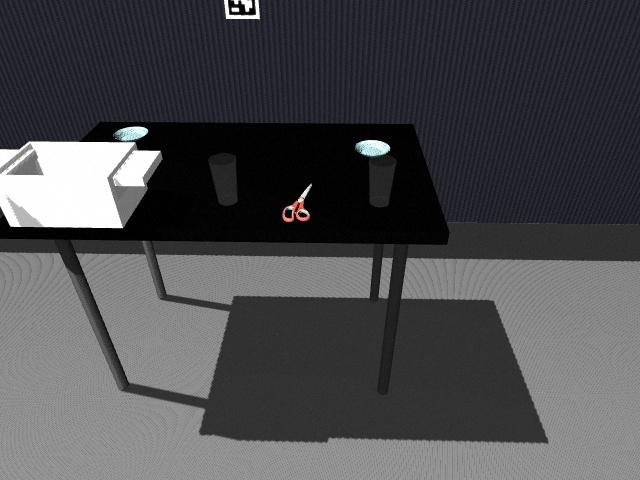cup: (368, 155, 397, 208), (208, 154, 237, 205)
plate: (352, 139, 392, 158), (112, 126, 150, 142)
scissors: (281, 185, 314, 224)
